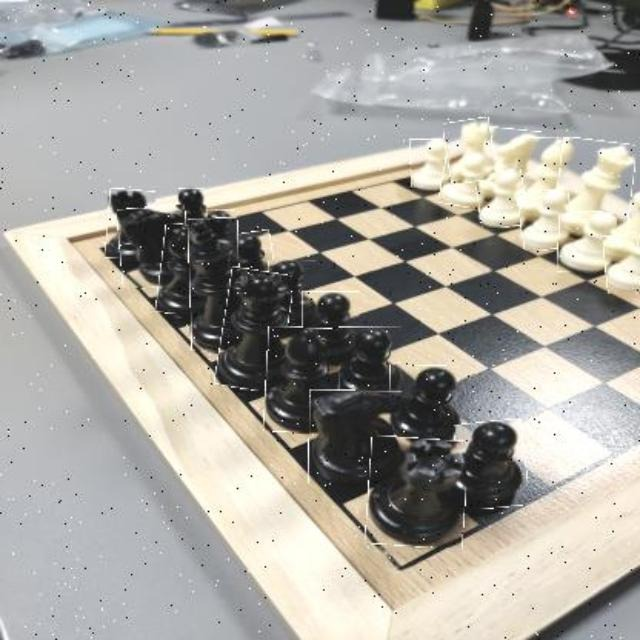black-bishop: (264, 327, 339, 433), (157, 224, 200, 314)
black-king: (190, 217, 240, 352)
black-knight: (309, 391, 402, 485), (119, 206, 189, 289)
black-pawn: (456, 420, 528, 509), (388, 366, 461, 444), (339, 326, 403, 395), (302, 290, 362, 359), (267, 260, 316, 321), (230, 231, 273, 278), (179, 188, 206, 222), (207, 209, 237, 238)
black-queen: (220, 269, 290, 390)
black-rook: (366, 437, 466, 547), (107, 189, 157, 259)
white-bishop: (517, 139, 573, 215)
white-knight: (480, 127, 541, 196)
white-pawn: (558, 211, 618, 273), (519, 189, 571, 250), (477, 171, 526, 229), (441, 152, 488, 208), (410, 139, 453, 189), (605, 233, 638, 295)
white-queen: (555, 139, 635, 239)
white-rook: (445, 119, 495, 183)
